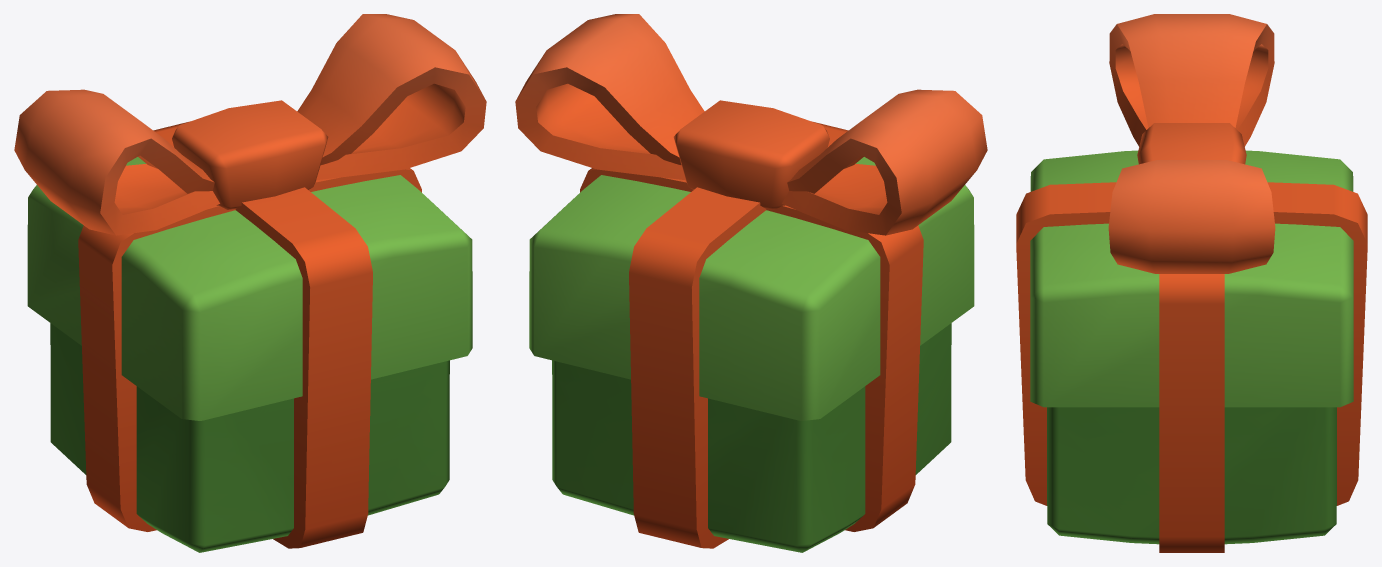
The model's file is Present_006.glb.
The picture shows the model from 3 angles, left to right: view 1: azimuth 30°, elevation 25°; view 2: azimuth 150°, elevation 25°; view 3: azimuth 270°, elevation 25°; orthographic projection. The views are drawn at different scales.
Visible parts, largest first — view 1: Present_006; view 2: Present_006; view 3: Present_006.
Boxes of the visible parts, x1,y1,x2,y2 form: Present_006: [14, 14, 486, 552]; Present_006: [515, 14, 987, 552]; Present_006: [1016, 14, 1367, 552].
Size of the model in its own units: 0.5652 by 0.5698 by 0.4392.
Materials: 1 (1 with a texture image).
